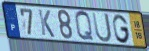7: (18, 7, 34, 36)
8: (57, 9, 74, 42)
G: (112, 14, 132, 45)
K: (37, 9, 56, 40)
Q: (74, 10, 96, 43)
U: (91, 11, 113, 44)
